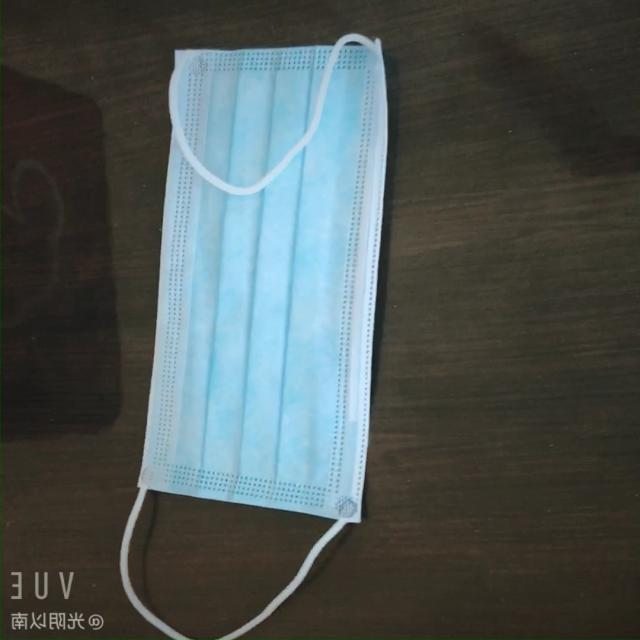face mask: (150, 46, 398, 524)
